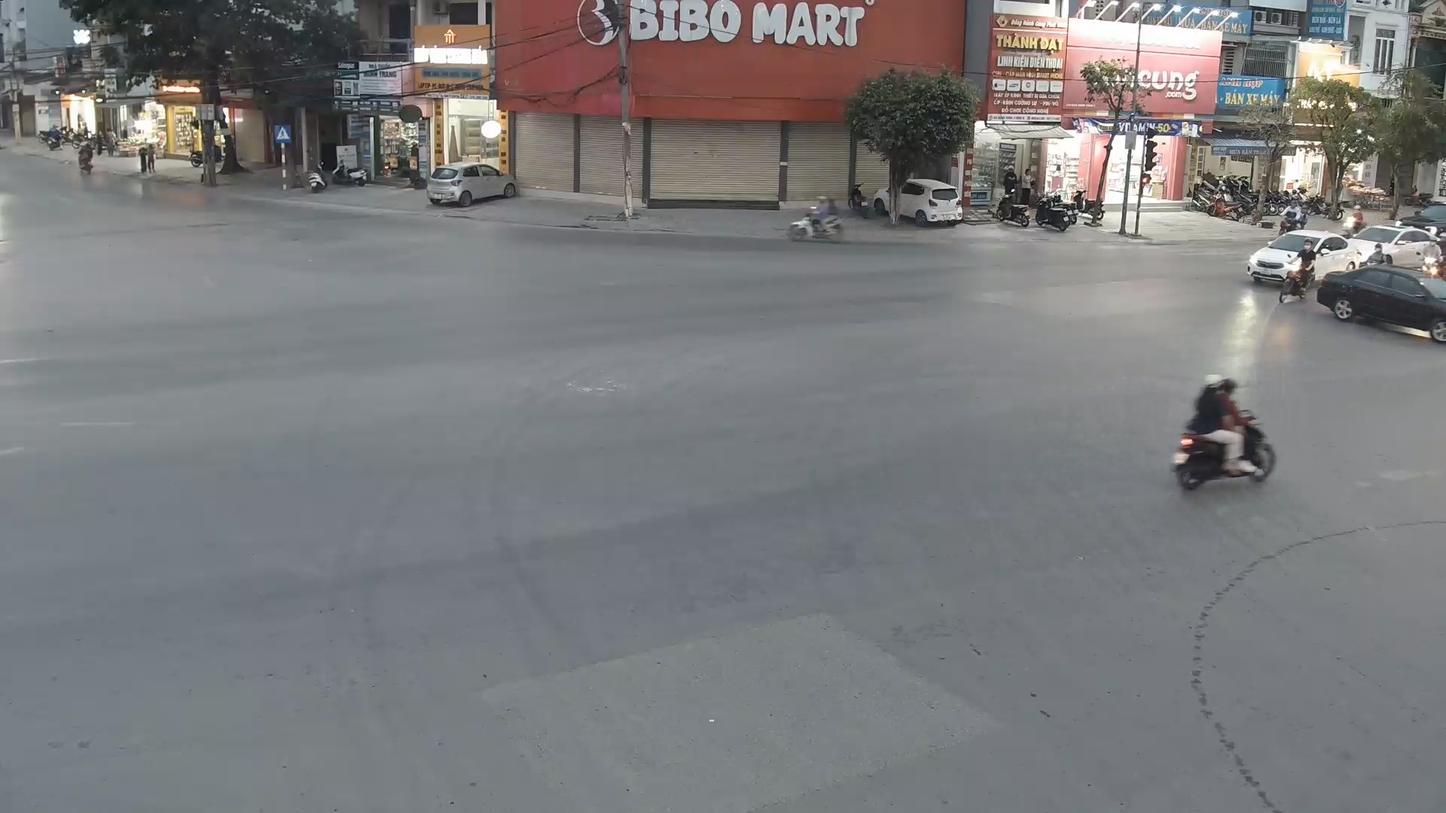car: (1314, 228, 1445, 346), (425, 160, 520, 211), (1246, 228, 1322, 287)
motorbike: (1168, 371, 1279, 491), (784, 198, 847, 244)
truck: (848, 111, 969, 228)
